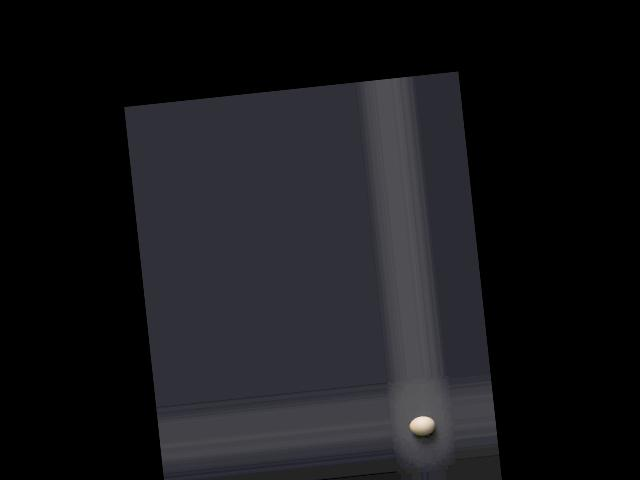egg: (408, 414, 436, 436)
